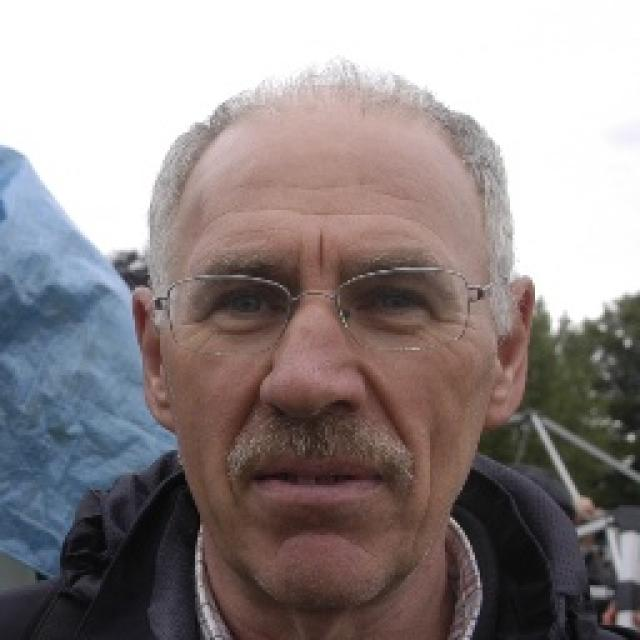earlobe: (482, 385, 517, 430), (146, 390, 176, 432)
eye: (209, 292, 280, 321), (354, 288, 425, 316)
nose: (264, 393, 362, 453)
wholeear: (483, 276, 536, 429), (130, 288, 175, 432)
